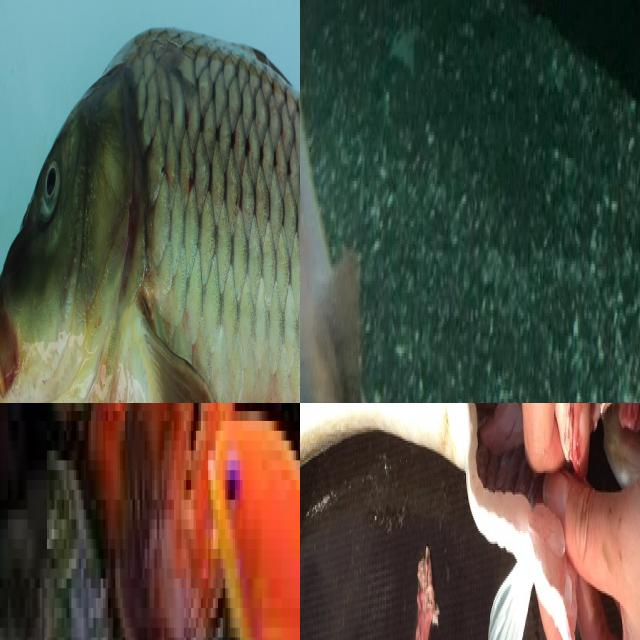fish: (0, 0, 300, 403), (300, 403, 640, 640), (300, 0, 450, 403), (66, 403, 300, 640)
